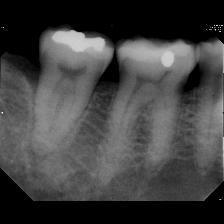apical_lesion: (17, 25, 118, 185)
